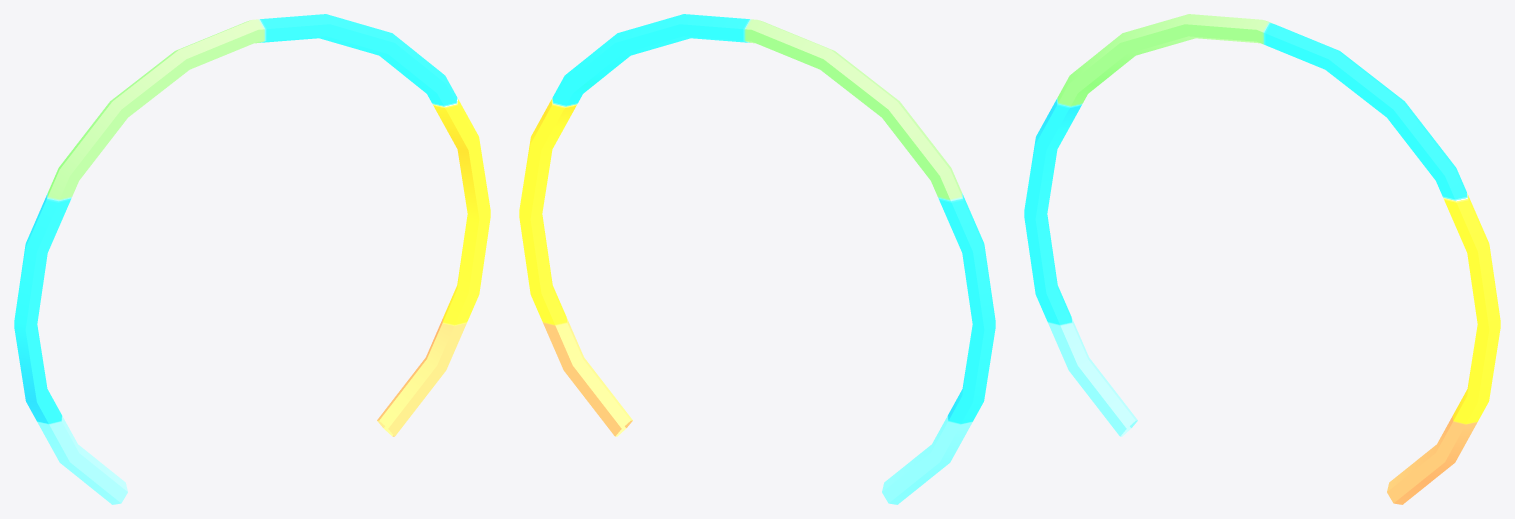
The model's file is ETC0110004.fbx.
The picture shows the model from 3 angles, left to right: view 1: azimuth 30°, elevation 25°; view 2: azimuth 150°, elevation 25°; view 3: azimuth 330°, elevation 25°; orthographic projection.
Parts seen in each view (by area): view 1: smETC0110004; view 2: smETC0110004; view 3: smETC0110004.
Part boxes in pixels (box(x1,y1,x2,y2)): smETC0110004: box(14, 14, 490, 504); smETC0110004: box(519, 14, 995, 504); smETC0110004: box(1024, 14, 1500, 504).
Size of what is drawn, in the model's own units: 317 by 287 by 13.09.
Materials: 1 (1 with a texture image).
